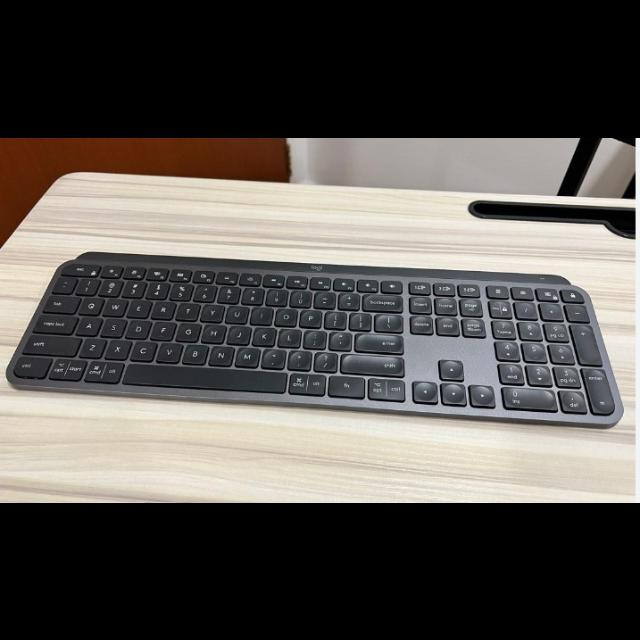Computer-Keyboard: (4, 250, 627, 431)
